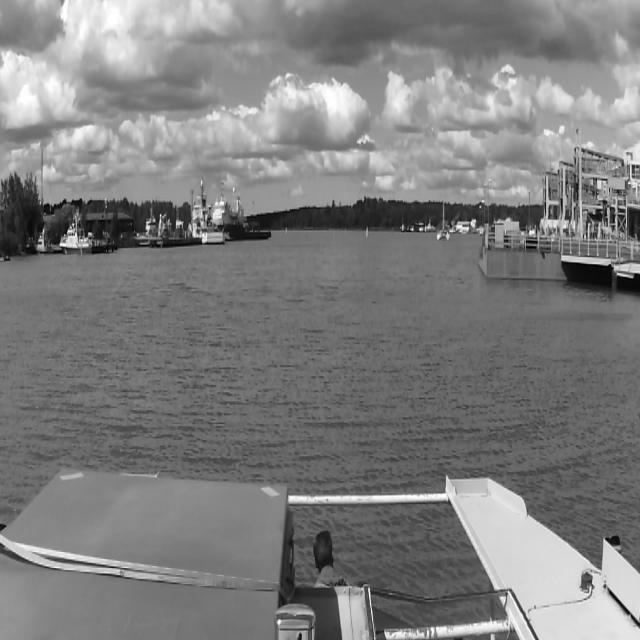buoy: (364, 223, 368, 235)
ship: (60, 207, 92, 253), (192, 180, 208, 246), (432, 194, 452, 244)
